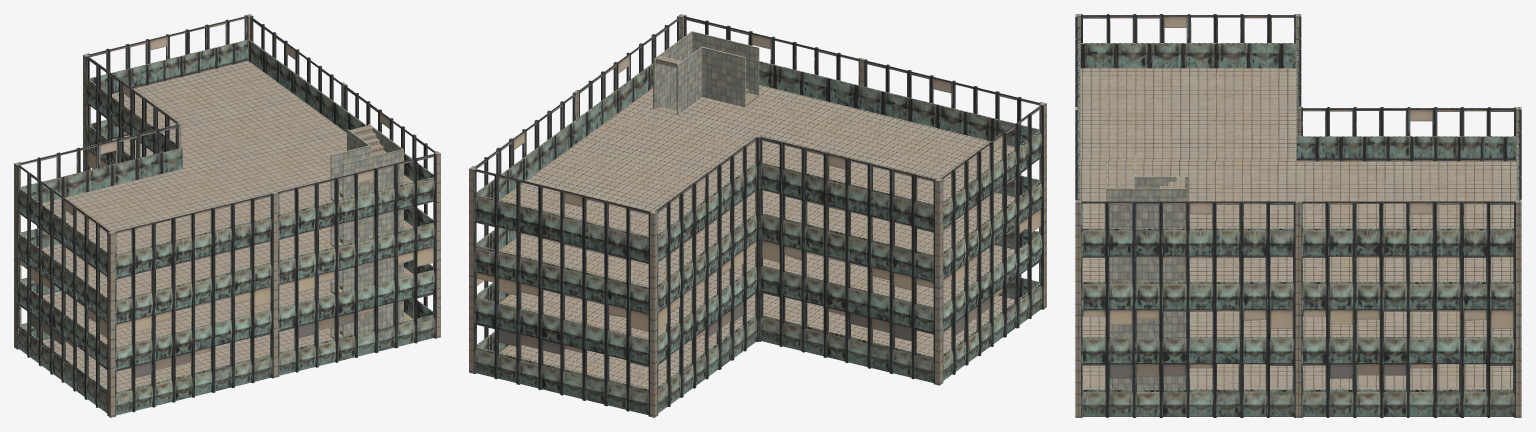
File: BagSS09mid_high.fbx
3 renders of one model, left to right at view 1: azimuth 30°, elevation 25°; view 2: azimuth 150°, elevation 25°; view 3: azimuth 270°, elevation 25°, orthographic. The views are drawn at different scales.
Visible parts, largest first — view 1: midMain700, midCrete700, midInnerWall700, midStairWell700, midStairs700; view 2: midMain700, midCrete700, midInnerWall700, midStairWell700; view 3: midMain700, midCrete700, midInnerWall700, midStairWell700.
Boxes of the visible parts, x1,y1,x2,y2 form: midMain700: [16, 15, 437, 416]; midCrete700: [14, 14, 440, 417]; midInnerWall700: [19, 40, 433, 393]; midStairWell700: [330, 124, 403, 336]; midStairs700: [331, 125, 386, 338]; midMain700: [472, 15, 1043, 416]; midCrete700: [469, 14, 1046, 417]; midInnerWall700: [476, 61, 1040, 391]; midStairWell700: [653, 31, 759, 114]; midMain700: [1075, 14, 1521, 417]; midCrete700: [1075, 14, 1521, 417]; midInnerWall700: [1078, 43, 1518, 392]; midStairWell700: [1106, 154, 1188, 389].
Size of the model in its own units: 40.92 by 21.77 by 40.92.
